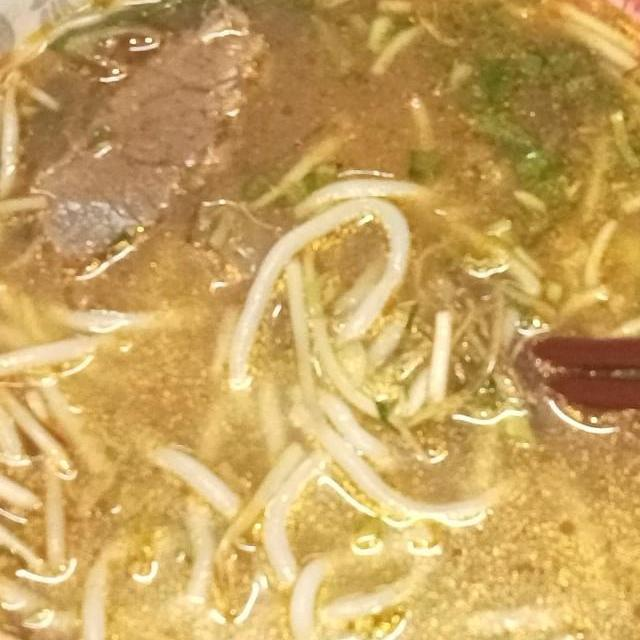bun: (0, 163, 592, 640)
bun bo: (0, 0, 640, 640)
thit bo: (18, 0, 278, 286)
